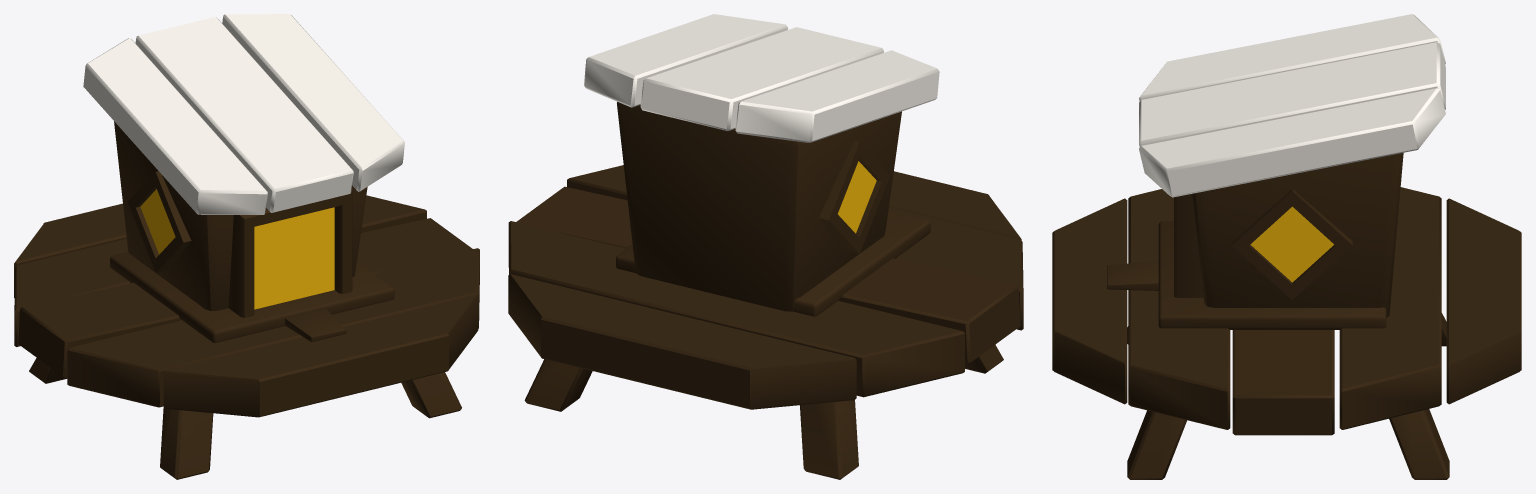
The picture shows the model from 3 angles, left to right: view 1: azimuth 30°, elevation 25°; view 2: azimuth 150°, elevation 25°; view 3: azimuth 270°, elevation 25°; orthographic projection. The views are drawn at different scales.
Visible parts, largest first — view 1: Null_4; view 2: Null_4; view 3: Null_4.
Part boxes in pixels (left/top/right/bottom): Null_4: left=14, top=14, right=479, bottom=479; Null_4: left=508, top=14, right=1023, bottom=479; Null_4: left=1052, top=14, right=1521, bottom=479.
Size of the model in its own units: 201 by 146 by 182.
